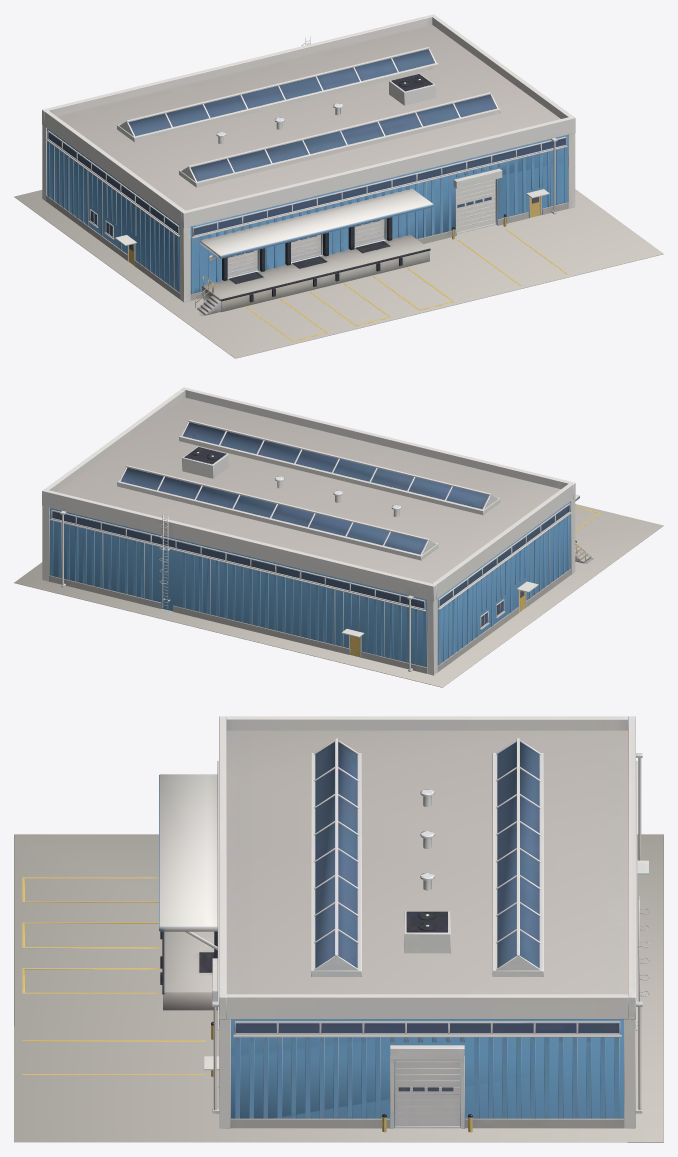
Rendered from warehouse.glb.
The picture shows the model from 3 angles, top to bottom: view 1: azimuth 30°, elevation 25°; view 2: azimuth 150°, elevation 25°; view 3: azimuth 270°, elevation 25°; orthographic projection. The views are drawn at different scales.
Parts seen in each view (by area): view 1: warehouse_body, warehouse_hall, warehouse_yard_slab, warehouse_roller_door; view 2: warehouse_body, warehouse_hall, warehouse_yard_slab; view 3: warehouse_hall, warehouse_body, warehouse_yard_slab.
Part boxes in pixels (box(x1,y1,x2,y2)): warehouse_body: box(42, 14, 575, 341); warehouse_hall: box(47, 24, 568, 294); warehouse_yard_slab: box(14, 189, 663, 358); warehouse_roller_door: box(456, 179, 495, 234); warehouse_body: box(42, 387, 600, 675); warehouse_hall: box(49, 397, 570, 667); warehouse_yard_slab: box(14, 504, 663, 687); warehouse_hall: box(226, 730, 628, 1126); warehouse_body: box(22, 716, 649, 1132); warehouse_yard_slab: box(14, 834, 663, 1142).
Size of the model in its own units: 44 by 9.54 by 39.3.
Materials: 5 (2 with a texture image).
